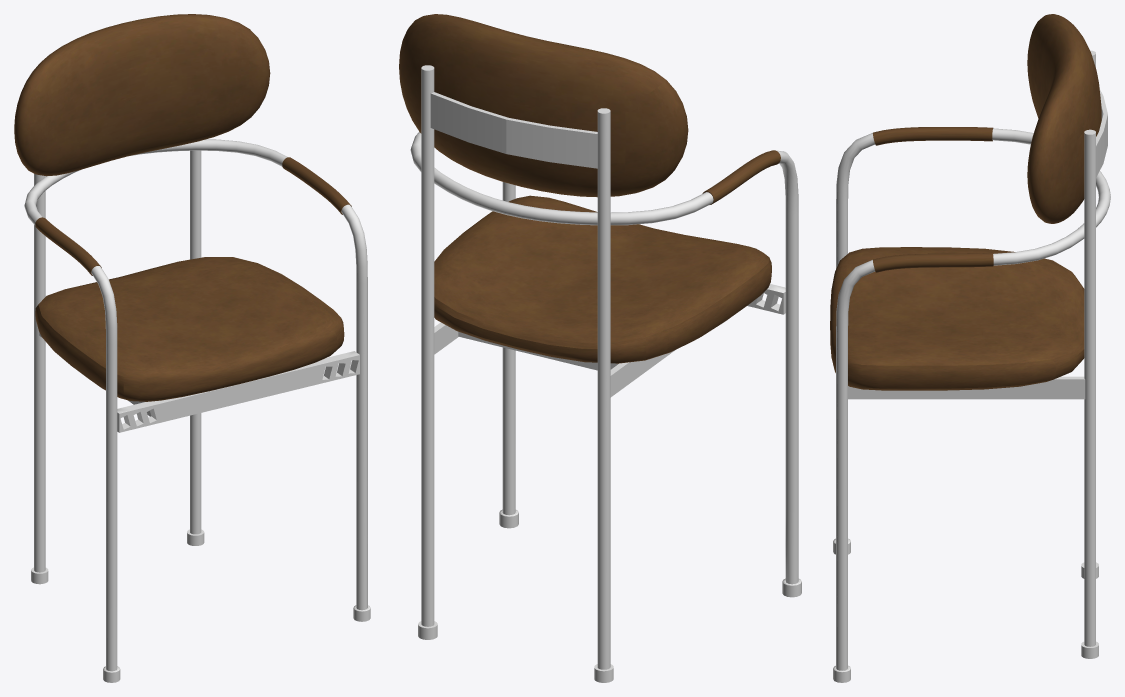
File: office_chair.glb
The picture shows the model from 3 angles, left to right: view 1: azimuth 30°, elevation 25°; view 2: azimuth 150°, elevation 25°; view 3: azimuth 270°, elevation 25°; orthographic projection. The views are drawn at different scales.
Parts seen in each view (by area): view 1: TOP.001, BACK.002, STEEL.002, STEEL 1, SIDE LEATHERS.002; view 2: TOP.001, BACK.002, STEEL.002, STEEL 1, SIDE LEATHERS.002; view 3: TOP.001, BACK.002, STEEL.002, STEEL 1, SIDE LEATHERS.002.
Part boxes in pixels (x1,y1,x2,y2): TOP.001: [35, 257, 344, 401]; BACK.002: [14, 14, 270, 176]; STEEL.002: [31, 150, 359, 584]; STEEL 1: [24, 139, 370, 682]; SIDE LEATHERS.002: [35, 157, 351, 275]; TOP.001: [434, 195, 771, 363]; BACK.002: [399, 14, 688, 197]; STEEL.002: [418, 65, 785, 682]; STEEL 1: [410, 132, 801, 597]; SIDE LEATHERS.002: [702, 150, 780, 204]; TOP.001: [830, 247, 1084, 390]; BACK.002: [1027, 14, 1101, 223]; STEEL.002: [848, 50, 1107, 658]; STEEL 1: [833, 128, 1110, 682]; SIDE LEATHERS.002: [872, 127, 993, 272].
Bounding box in the file's own units: 0.5316 × 1.04 × 0.4682.
5 materials, 3 textured.
